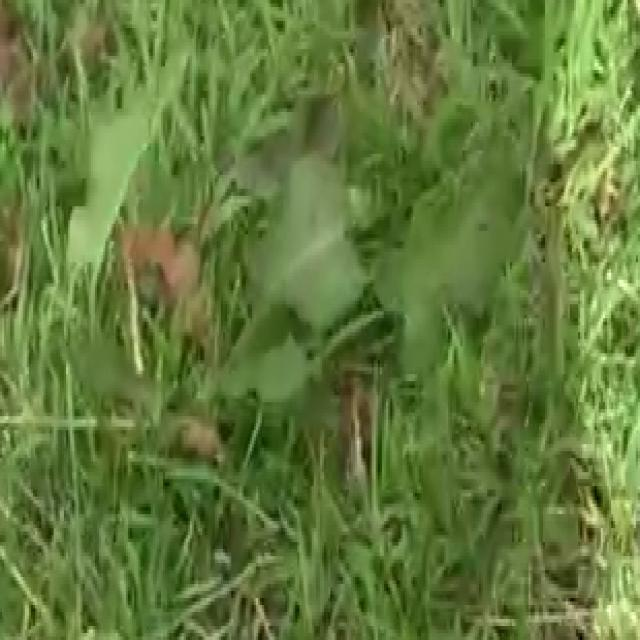organic waste: (54, 84, 532, 535)
